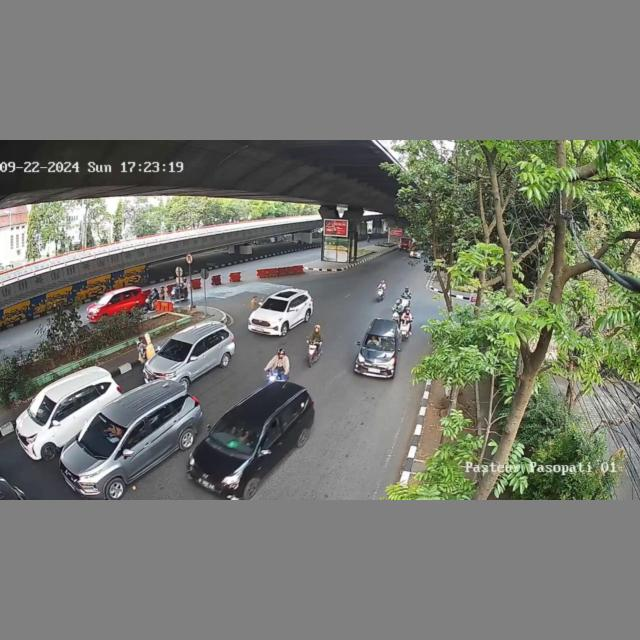windshield: (207, 414, 266, 459), (80, 415, 128, 457), (28, 393, 57, 423), (158, 338, 193, 361), (364, 333, 396, 351), (258, 298, 288, 311)
